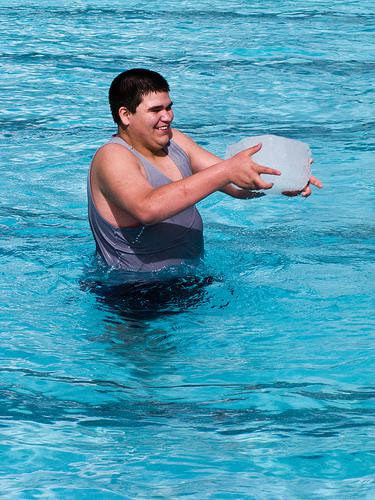swimmer: (87, 66, 320, 296)
